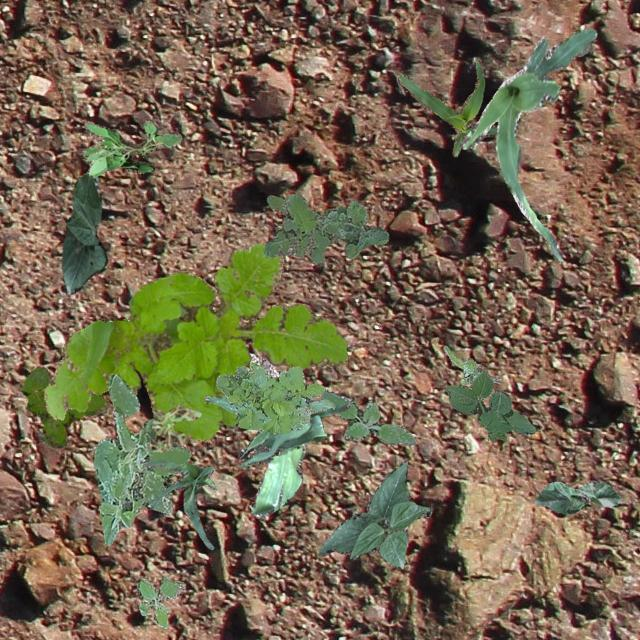crop: (460, 28, 596, 260), (316, 460, 431, 568), (203, 394, 349, 466), (396, 56, 496, 156), (248, 352, 306, 518), (138, 458, 216, 548), (60, 170, 106, 292), (534, 479, 620, 514)
weed: (42, 242, 346, 440), (92, 372, 190, 544), (214, 360, 334, 432), (262, 194, 388, 262), (20, 366, 109, 446), (444, 368, 534, 440), (82, 120, 180, 177), (320, 388, 416, 444), (147, 402, 200, 452), (136, 576, 183, 628), (442, 344, 500, 384)
